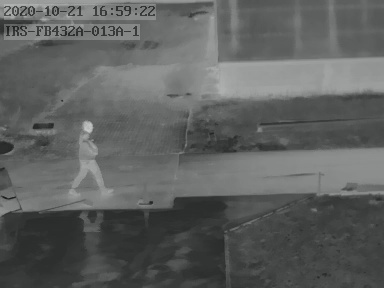person: (69, 120, 113, 194)
